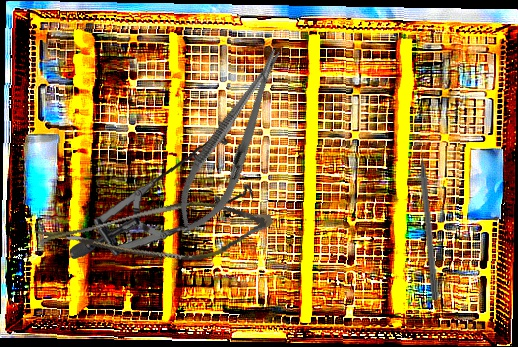Micro Scissor: (28, 170, 278, 301)
Needle Holder: (162, 39, 301, 245)
Pusher: (416, 134, 441, 301)
Speculum: (69, 118, 258, 272)
